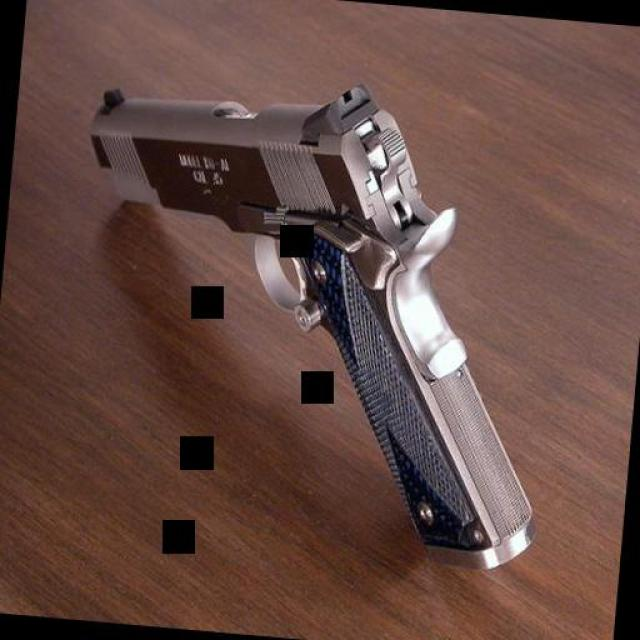gun: (50, 58, 570, 582)
